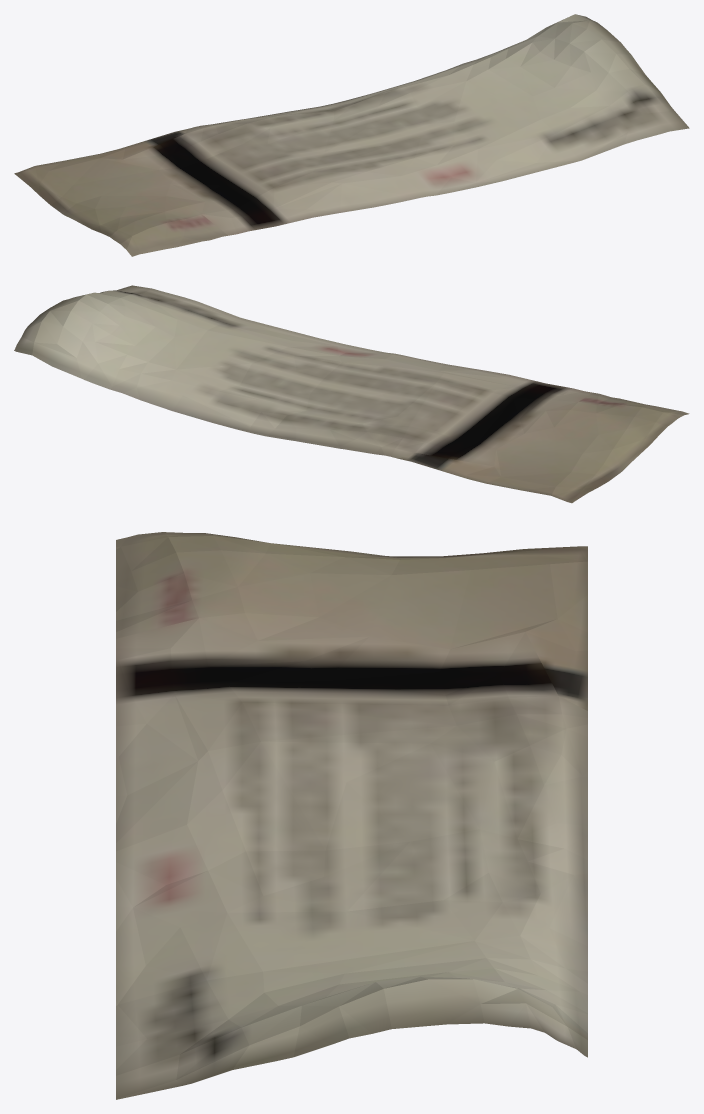
Rendered from nycb-ticket-back.glb.
3 views of the same model, one above another, from view 1: azimuth 30°, elevation 25°; view 2: azimuth 150°, elevation 25°; view 3: azimuth 270°, elevation 25° (orthographic). The views are drawn at different scales.
Visible parts, largest first — view 1: mesh; view 2: mesh; view 3: mesh.
Boxes of the visible parts, box(x1,y1,x2,y2) form: mesh: box(14, 14, 689, 256); mesh: box(14, 285, 689, 503); mesh: box(116, 532, 587, 1099).
Size of the model in its own units: 0.1417 by 0.0134 by 0.0519.
Materials: 1 (1 with a texture image).
